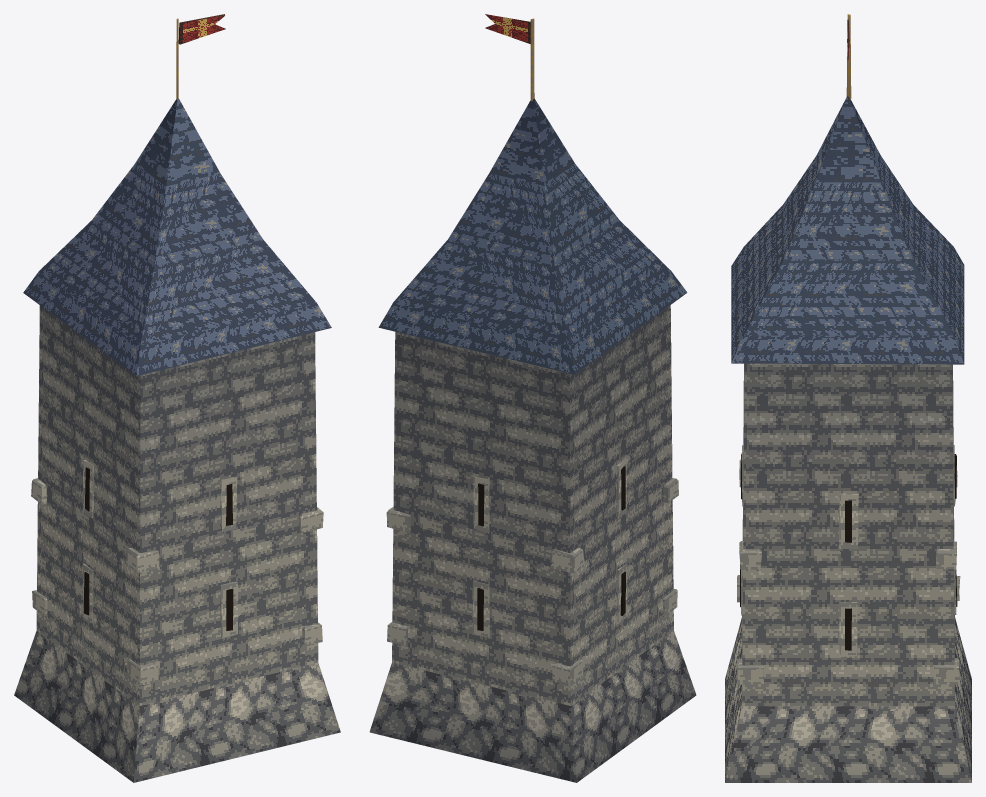
File: cst.tower_square__roofed.glb
The picture shows the model from 3 angles, left to right: view 1: azimuth 30°, elevation 25°; view 2: azimuth 150°, elevation 25°; view 3: azimuth 270°, elevation 25°; orthographic projection. The views are drawn at different scales.
Visible parts, largest first — view 1: kit_shaft, kit_top, kit_detail; view 2: kit_shaft, kit_top, kit_detail; view 3: kit_shaft, kit_top, kit_detail.
Part boxes in pixels (x1=…): kit_shaft: x1=14, y1=305, x2=340, y2=782; kit_top: x1=23, y1=98, x2=331, y2=375; kit_detail: x1=31, y1=14, x2=323, y2=685; kit_shaft: x1=369, y1=305, x2=696, y2=782; kit_top: x1=378, y1=99, x2=687, y2=374; kit_detail: x1=386, y1=14, x2=678, y2=685; kit_shaft: x1=725, y1=363, x2=971, y2=782; kit_top: x1=731, y1=96, x2=964, y2=364; kit_detail: x1=737, y1=14, x2=960, y2=684.
Size of the model in its own units: 5.8 by 18.58 by 5.8.
Materials: 7 (7 with a texture image).
